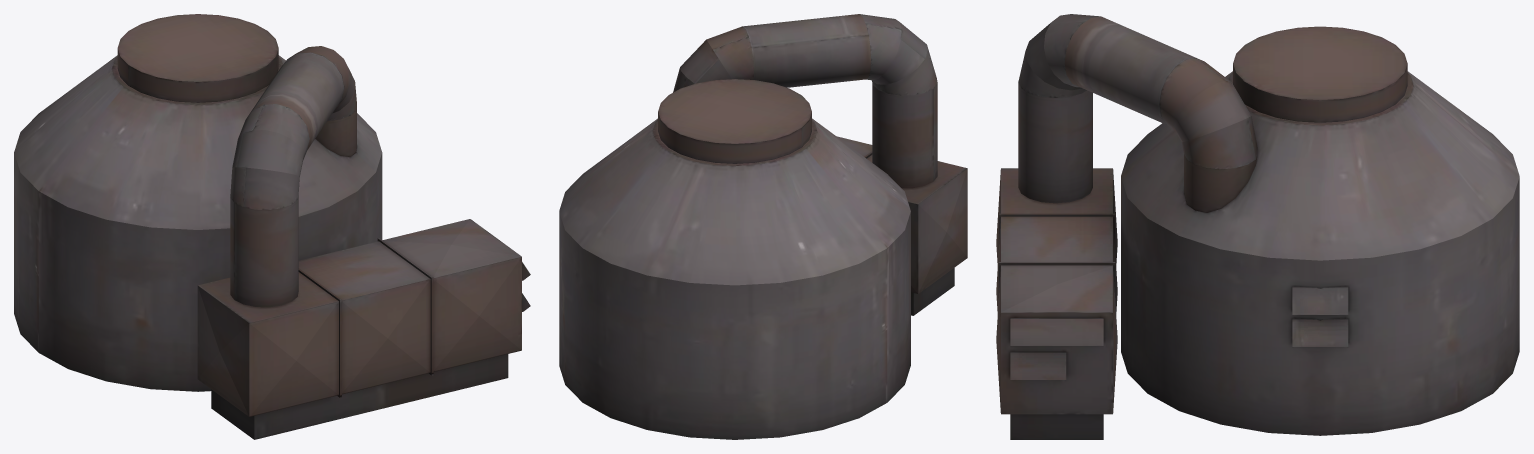
3 views of the same model, side by side, from view 1: azimuth 30°, elevation 25°; view 2: azimuth 150°, elevation 25°; view 3: azimuth 270°, elevation 25° (orthographic). The views are drawn at different scales.
Visible parts, largest first — view 1: body0_model0_lod0_mesh0; view 2: body0_model0_lod0_mesh0; view 3: body0_model0_lod0_mesh0.
Boxes of the visible parts, left/top/right/bottom form: body0_model0_lod0_mesh0: left=14, top=14, right=530, bottom=439; body0_model0_lod0_mesh0: left=559, top=14, right=967, bottom=439; body0_model0_lod0_mesh0: left=996, top=14, right=1519, bottom=439.
Bounding box in the file's own units: 35.03 × 28.23 × 42.
1 material, 1 textured.
